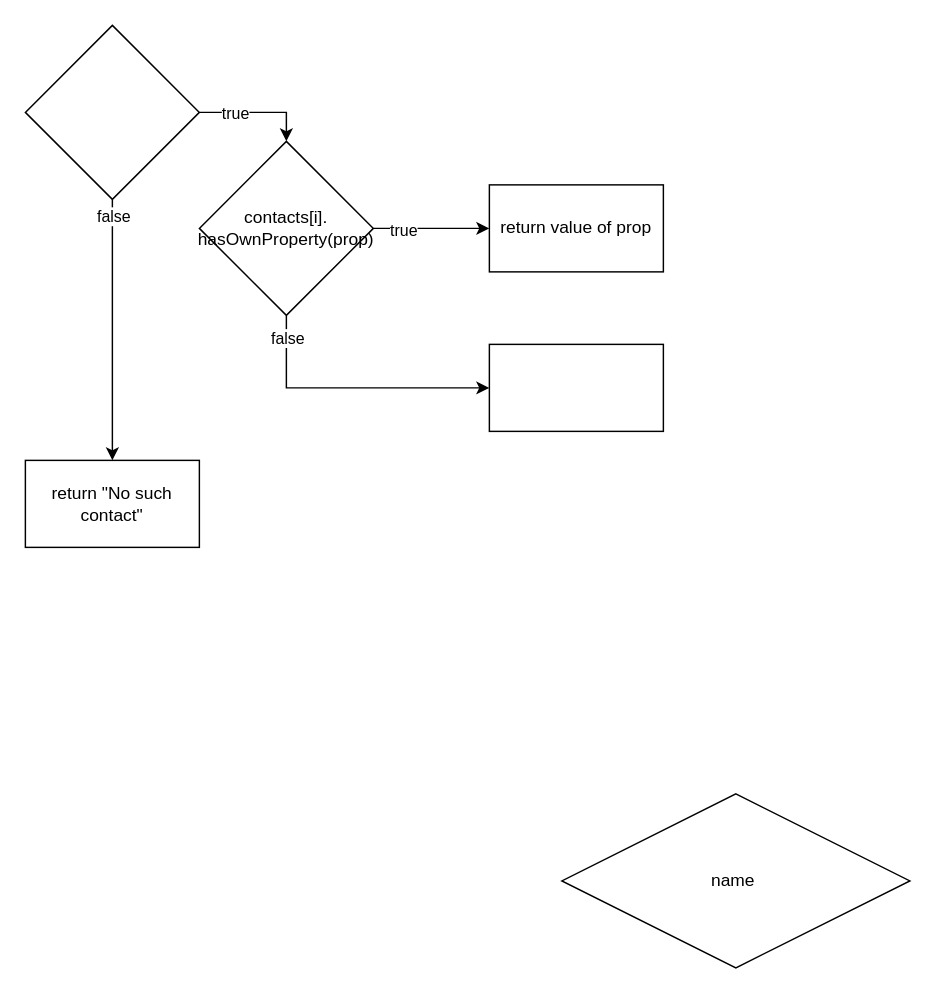
The diagram is 935 pixels wide and 993 high, and some of its shapes have lost their labels. Here are the shapes that lost their labels. From the top down, the centre of each, then its label:
point (111, 111): name === value of firstName
point (575, 387): return "No such property"
